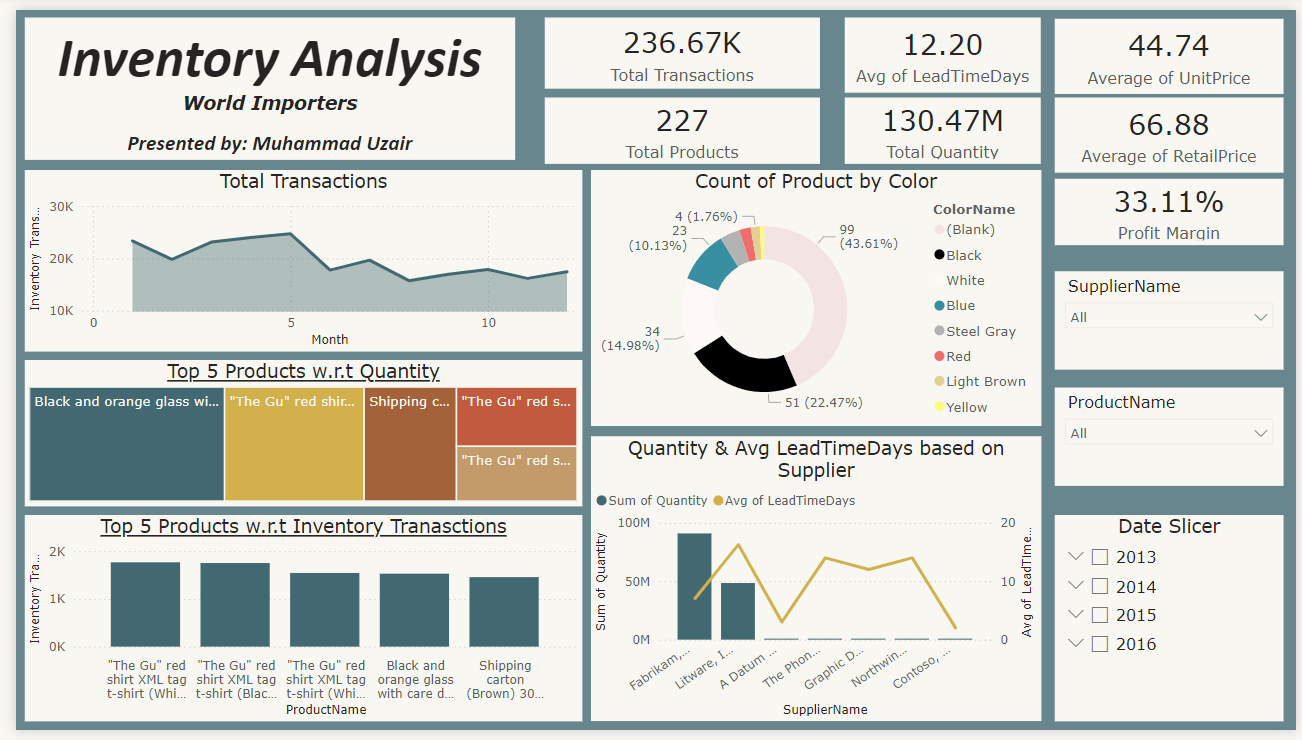

The dashboard page shown, as its layout file describes it:
{"tool":"powerbi","page":{"name":"Page 1","canvas":[1280,720],"ordinal":0},"visuals":[{"type":"areaChart","title":"Total Transactions","fields":{"Category":["Query1.Year","Query1.Quarter","Query1.Month","Query1.Day"],"Y":["CountNonNull(Query1.InventoryTransactionID)"]},"box":[8.8,160,557.5,181.2],"z":0},{"type":"card","title":"Total Transactions","fields":{"Values":["CountNonNull(Query1.InventoryTransactionID)"]},"box":[528.8,7.5,275,71.2],"z":1000},{"type":"treemap","title":"Top 5 Products w.r.t Quantity","fields":{"Group":["Query1.ProductName"],"Values":["Avg(Query1.Quantity)"]},"box":[8.8,350,557.5,146.2],"z":2000},{"type":"donutChart","title":"Count of Product by Color","fields":{"Category":["Query1.ColorName"],"Y":["Count(Query1.ProductName)"]},"box":[575,160,450,256.2],"z":3000},{"type":"card","title":"Avg Unit Price","fields":{"Values":["Avg(Query1.UnitPrice)"]},"box":[1038.8,8.8,228.8,75],"z":4000},{"type":"card","title":"Avg Retail Price","fields":{"Values":["Avg(Query1.RetailPrice)"]},"box":[1038.8,87.5,228.8,75],"z":5000},{"type":"slicer","title":"Date Slicer","fields":{"Values":["Query1.Year Hierarchy.Year","Query1.Year Hierarchy.Quarter","Query1.Year Hierarchy.Month","Query1.Year Hierarchy.Day"]},"box":[1038.8,505,228.8,206.2],"z":6000},{"type":"lineStackedColumnComboChart","title":"Quantity & Avg LeadTimeDays based on Supplier","fields":{"Category":["Query1.SupplierName"],"Y":["Sum(Query1.Quantity)"],"Y2":["Avg(Query1.LeadTimeDays)"]},"box":[575,426.2,450,285],"z":7000},{"type":"card","title":"Avg Profit Margin ","fields":{"Values":["Query1.Profit Margin"]},"box":[1038.8,168.8,228.8,66.2],"z":9000},{"type":"textbox","box":[8.8,7.5,490,142.5],"z":10000},{"type":"card","fields":{"Values":["Avg(Query1.LeadTimeDays)"]},"box":[828.8,7.5,196.2,75],"z":11000},{"type":"card","fields":{"Values":["Sum(Query1.Quantity)"]},"box":[828.8,87.5,196.2,66.2],"z":12000},{"type":"card","fields":{"Values":["Count(Query1.ProductName)"]},"box":[528.8,87.5,275,66.2],"z":13000},{"type":"slicer","fields":{"Values":["Query1.ProductName"]},"box":[1038.8,377.5,228.8,98.8],"z":13001},{"type":"slicer","fields":{"Values":["Query1.SupplierName"]},"box":[1038.8,261.2,228.8,98.8],"z":13002},{"type":"columnChart","title":"Top 5 Products w.r.t Inventory Tranasctions","fields":{"Category":["Query1.ProductName"],"Y":["CountNonNull(Query1.InventoryTransactionID)"]},"box":[8.8,505,557.5,206.2],"z":13003}]}

Visuals, with their boxes in screenshot pixels (x1, y1, x2, y2), scaled from the page's 1280x720 canvas onto the 1302x740 screenshot:
"Total Transactions" areaChart: BBox(9, 164, 576, 351)
"Total Transactions" card: BBox(538, 8, 818, 81)
"Top 5 Products w.r.t Quantity" treemap: BBox(9, 360, 576, 510)
"Count of Product by Color" donutChart: BBox(585, 164, 1043, 428)
"Avg Unit Price" card: BBox(1057, 9, 1289, 86)
"Avg Retail Price" card: BBox(1057, 90, 1289, 167)
"Date Slicer" slicer: BBox(1057, 519, 1289, 731)
"Quantity & Avg LeadTimeDays based on Supplier" lineStackedColumnComboChart: BBox(585, 438, 1043, 731)
"Avg Profit Margin " card: BBox(1057, 173, 1289, 242)
textbox: BBox(9, 8, 507, 154)
card - Avg(Query1.LeadTimeDays): BBox(843, 8, 1043, 85)
card - Sum(Query1.Quantity): BBox(843, 90, 1043, 158)
card - Count(Query1.ProductName): BBox(538, 90, 818, 158)
slicer - Query1.ProductName: BBox(1057, 388, 1289, 490)
slicer - Query1.SupplierName: BBox(1057, 268, 1289, 370)
"Top 5 Products w.r.t Inventory Tranasctions" columnChart: BBox(9, 519, 576, 731)
